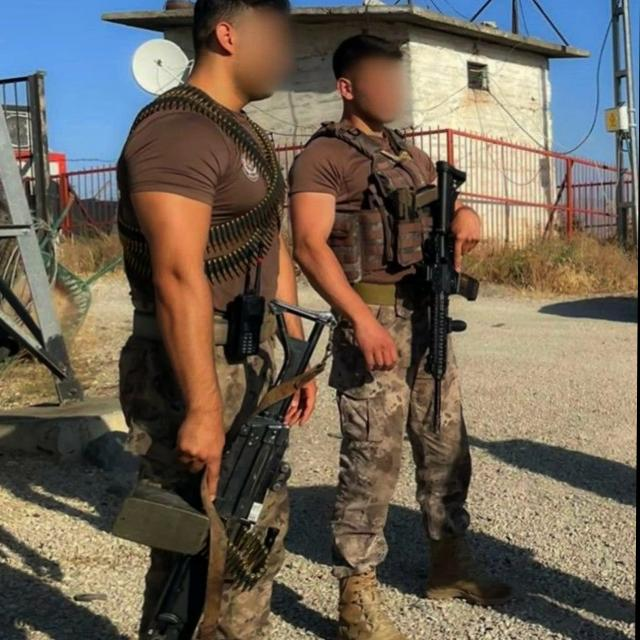poh_personel: (286, 32, 516, 640), (113, 0, 321, 640)
